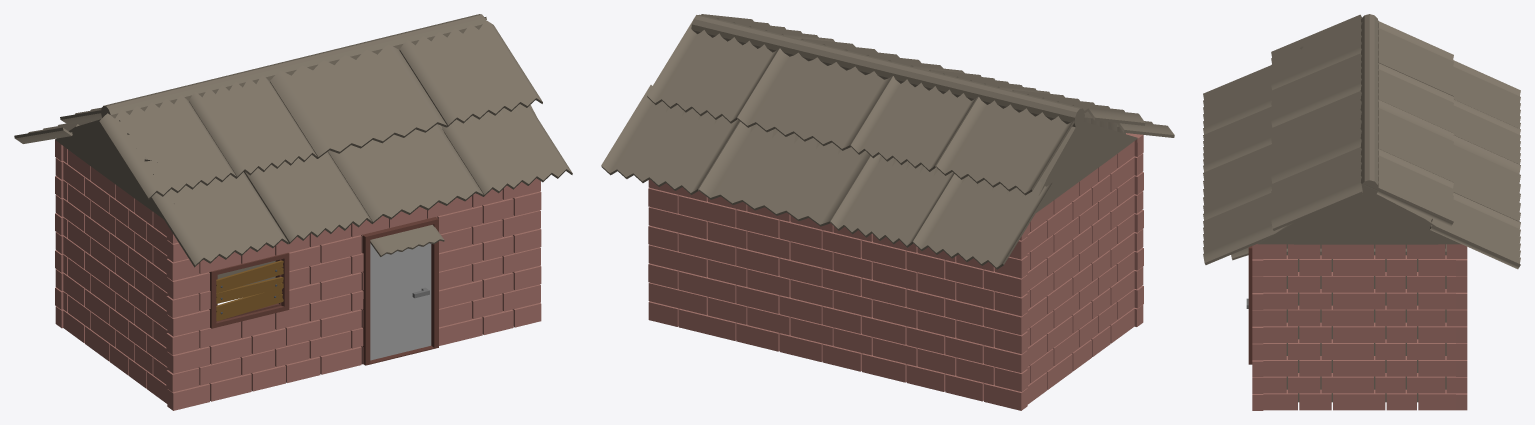
The model's file is maison_2.fbx.
The picture shows the model from 3 angles, left to right: view 1: azimuth 30°, elevation 25°; view 2: azimuth 150°, elevation 25°; view 3: azimuth 270°, elevation 25°; orthographic projection. The views are drawn at different scales.
Parts seen in each view (by area): view 1: pasted__pCube75; view 2: pasted__pCube75; view 3: pasted__pCube75.
Part boxes in pixels (x1=…): pasted__pCube75: x1=14, y1=14, x2=572, y2=410; pasted__pCube75: x1=601, y1=14, x2=1174, y2=410; pasted__pCube75: x1=1203, y1=14, x2=1520, y2=410.
Size of the model in its own units: 7.06 by 4.38 by 5.41.
